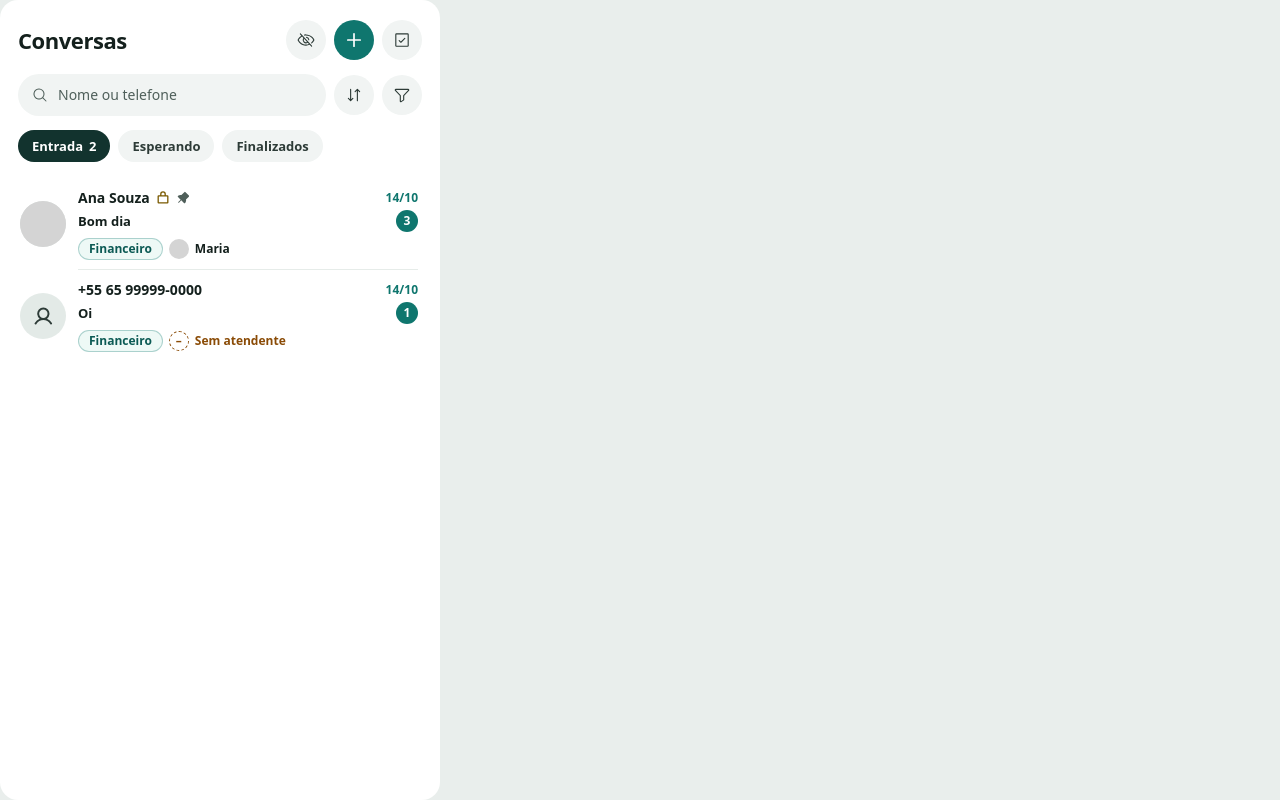
Test: transfers the selection in one request to the chosen sector (spec §4)
Expected: the text "Ana Souza" is shown, [78,188,150,208]
What coordinates should you click on to do the following:
click the button named "Selecionar"
I would click on:
 (402, 40)
Its box is [382,20,422,60].
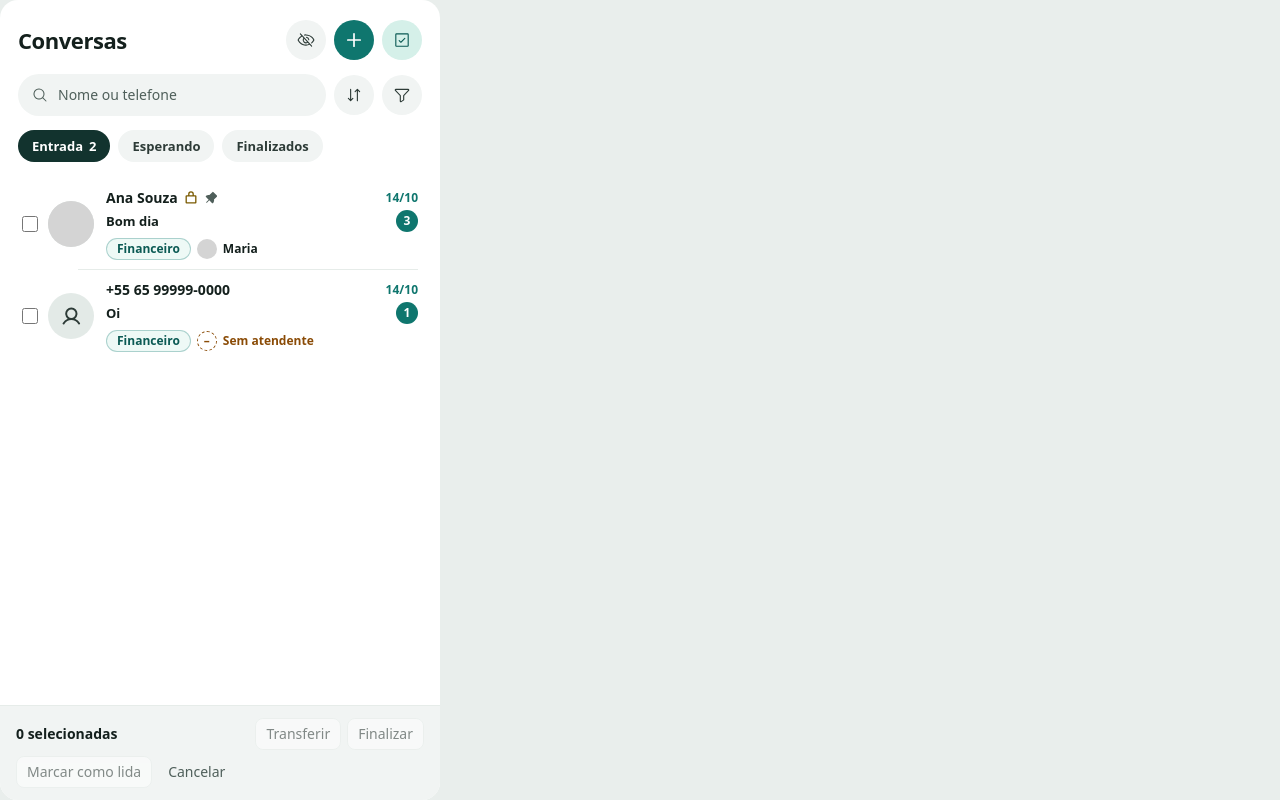
What coordinates should you click on to do the following:
click the checkbox named "Selecionar Ana Souza"
I would click on:
 (30, 224)
Its box is [22,216,38,232].
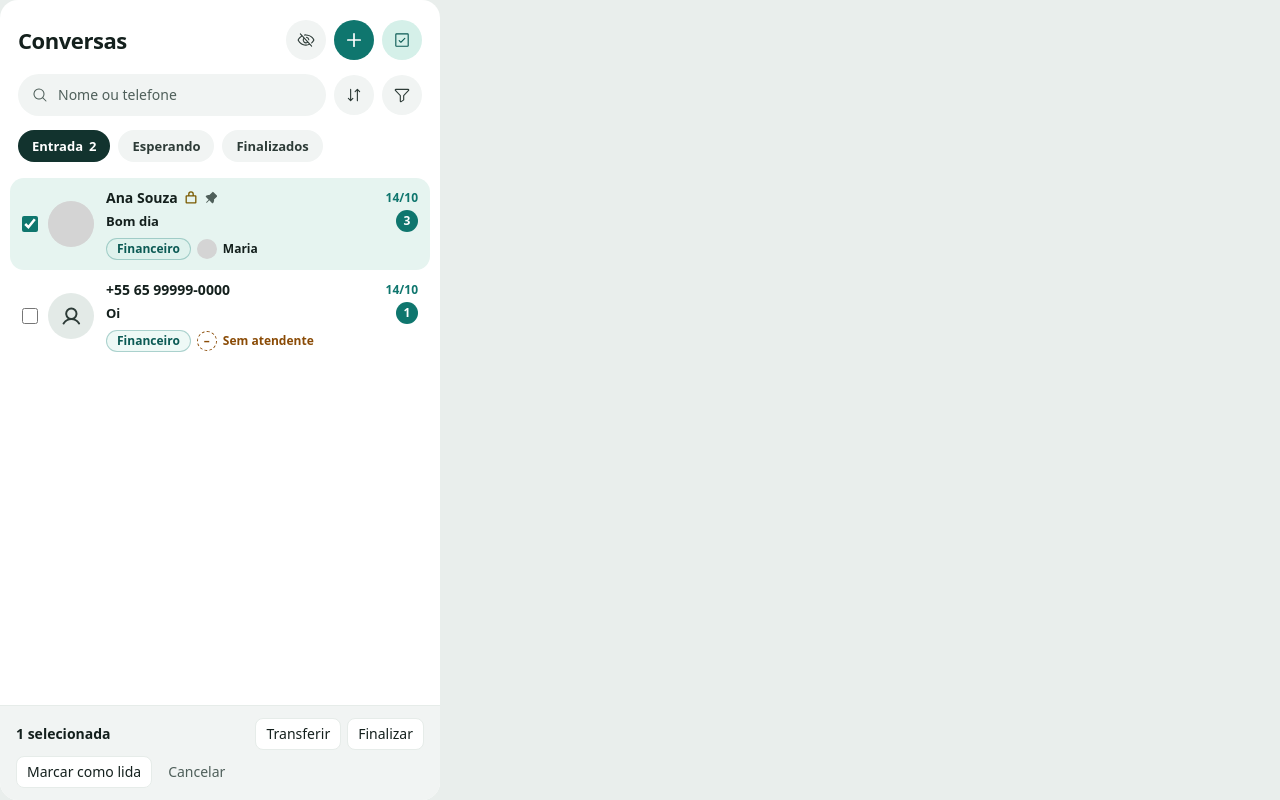
What coordinates should you click on to do the following:
click the checkbox named "Selecionar +55 65 99999-0000"
I would click on:
 (30, 316)
Its box is [22,308,38,324].
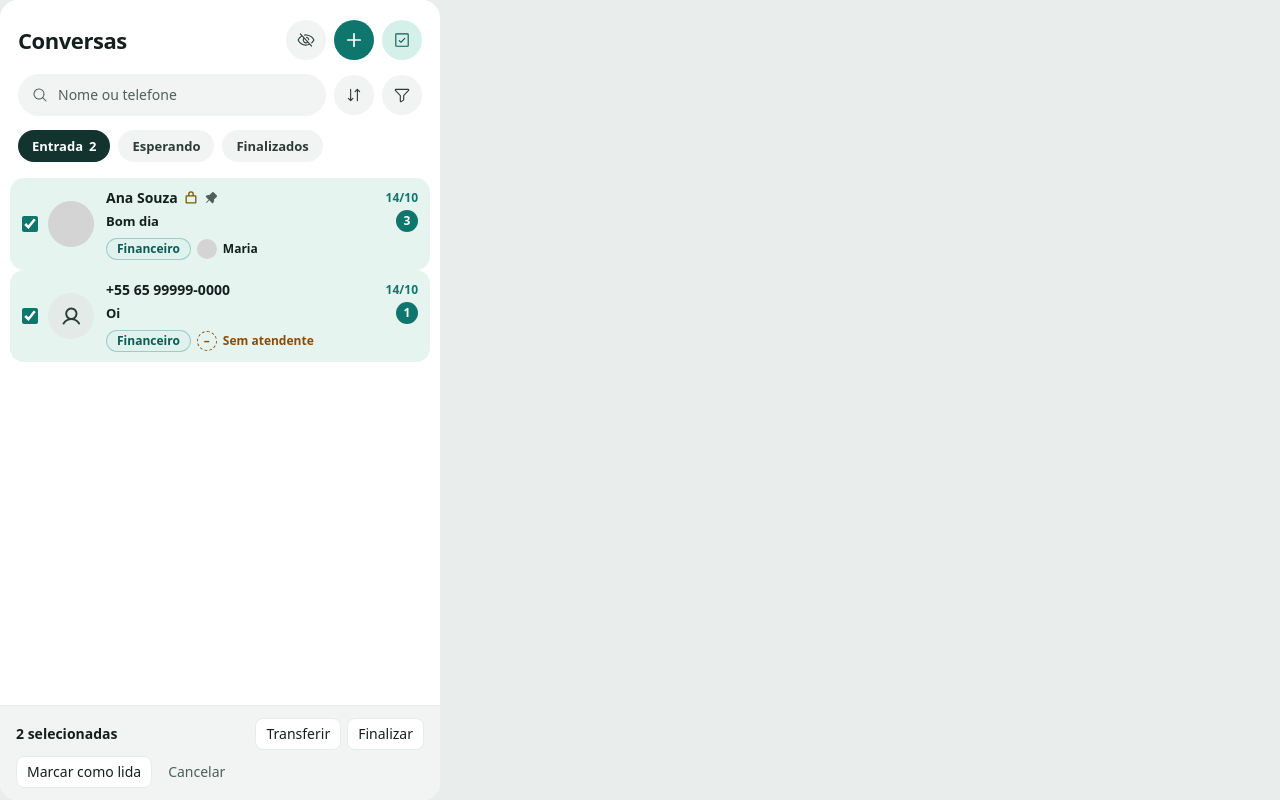
What coordinates should you click on to do the following:
click the button "Transferir"
I would click on:
 (298, 734)
Its box is [256,718,341,750].
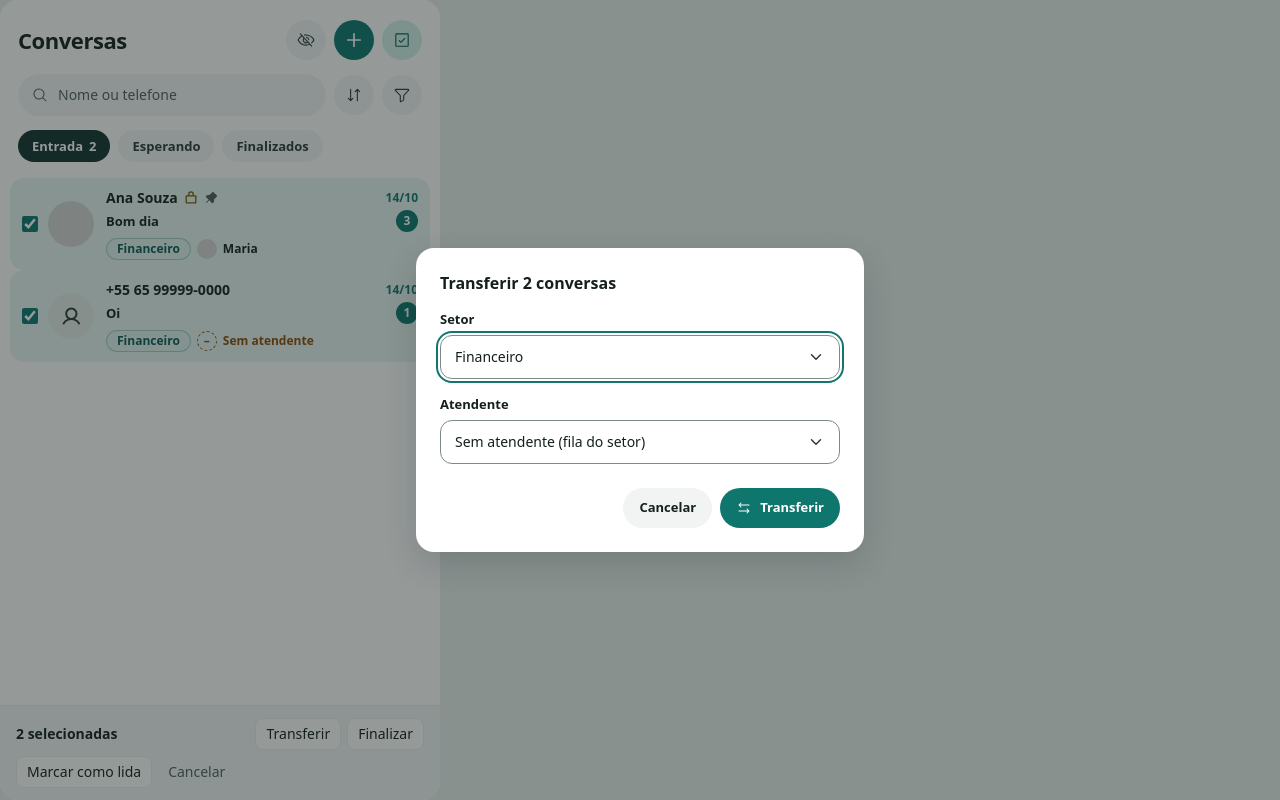
What coordinates should you click on to do the following:
click the button "Transferir"
I would click on:
 (780, 508)
Its box is [720,488,840,528].
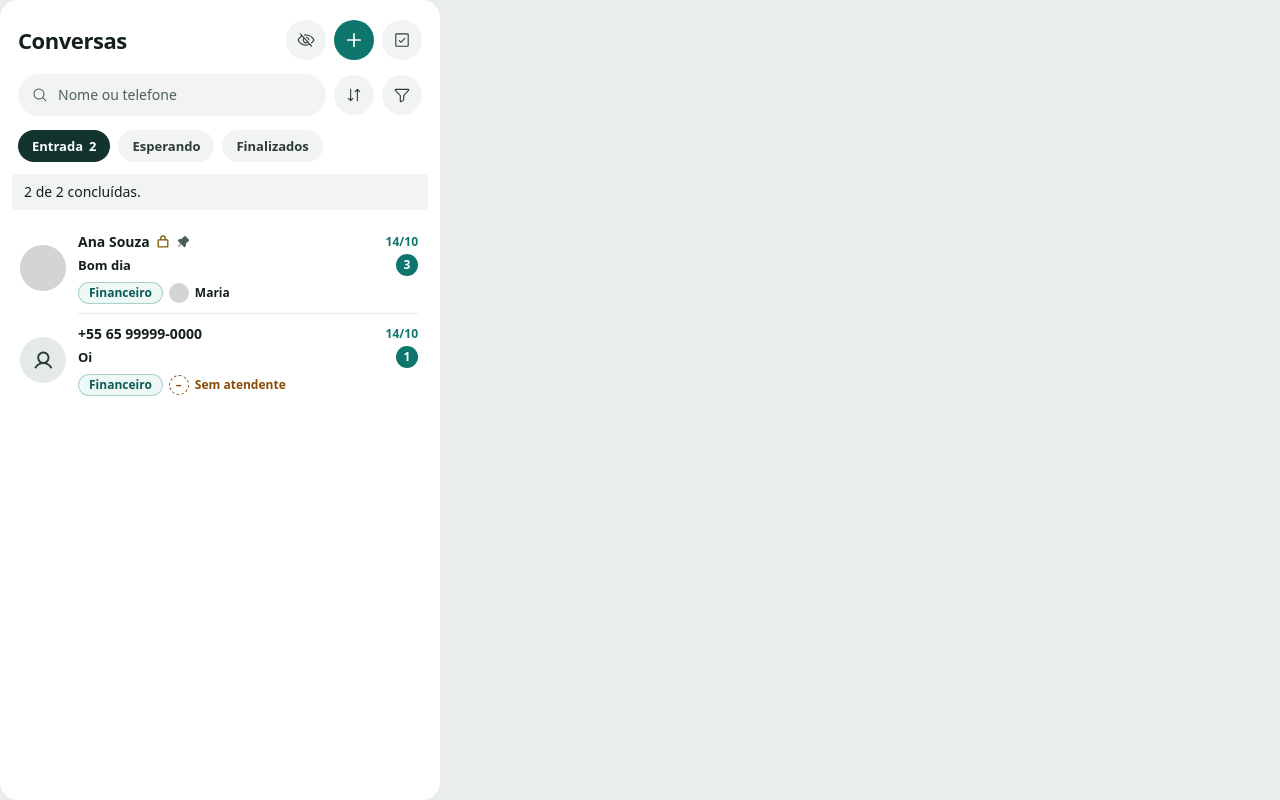
Result: the message reads "2 de 2 concluídas." at [24,182,141,201]
